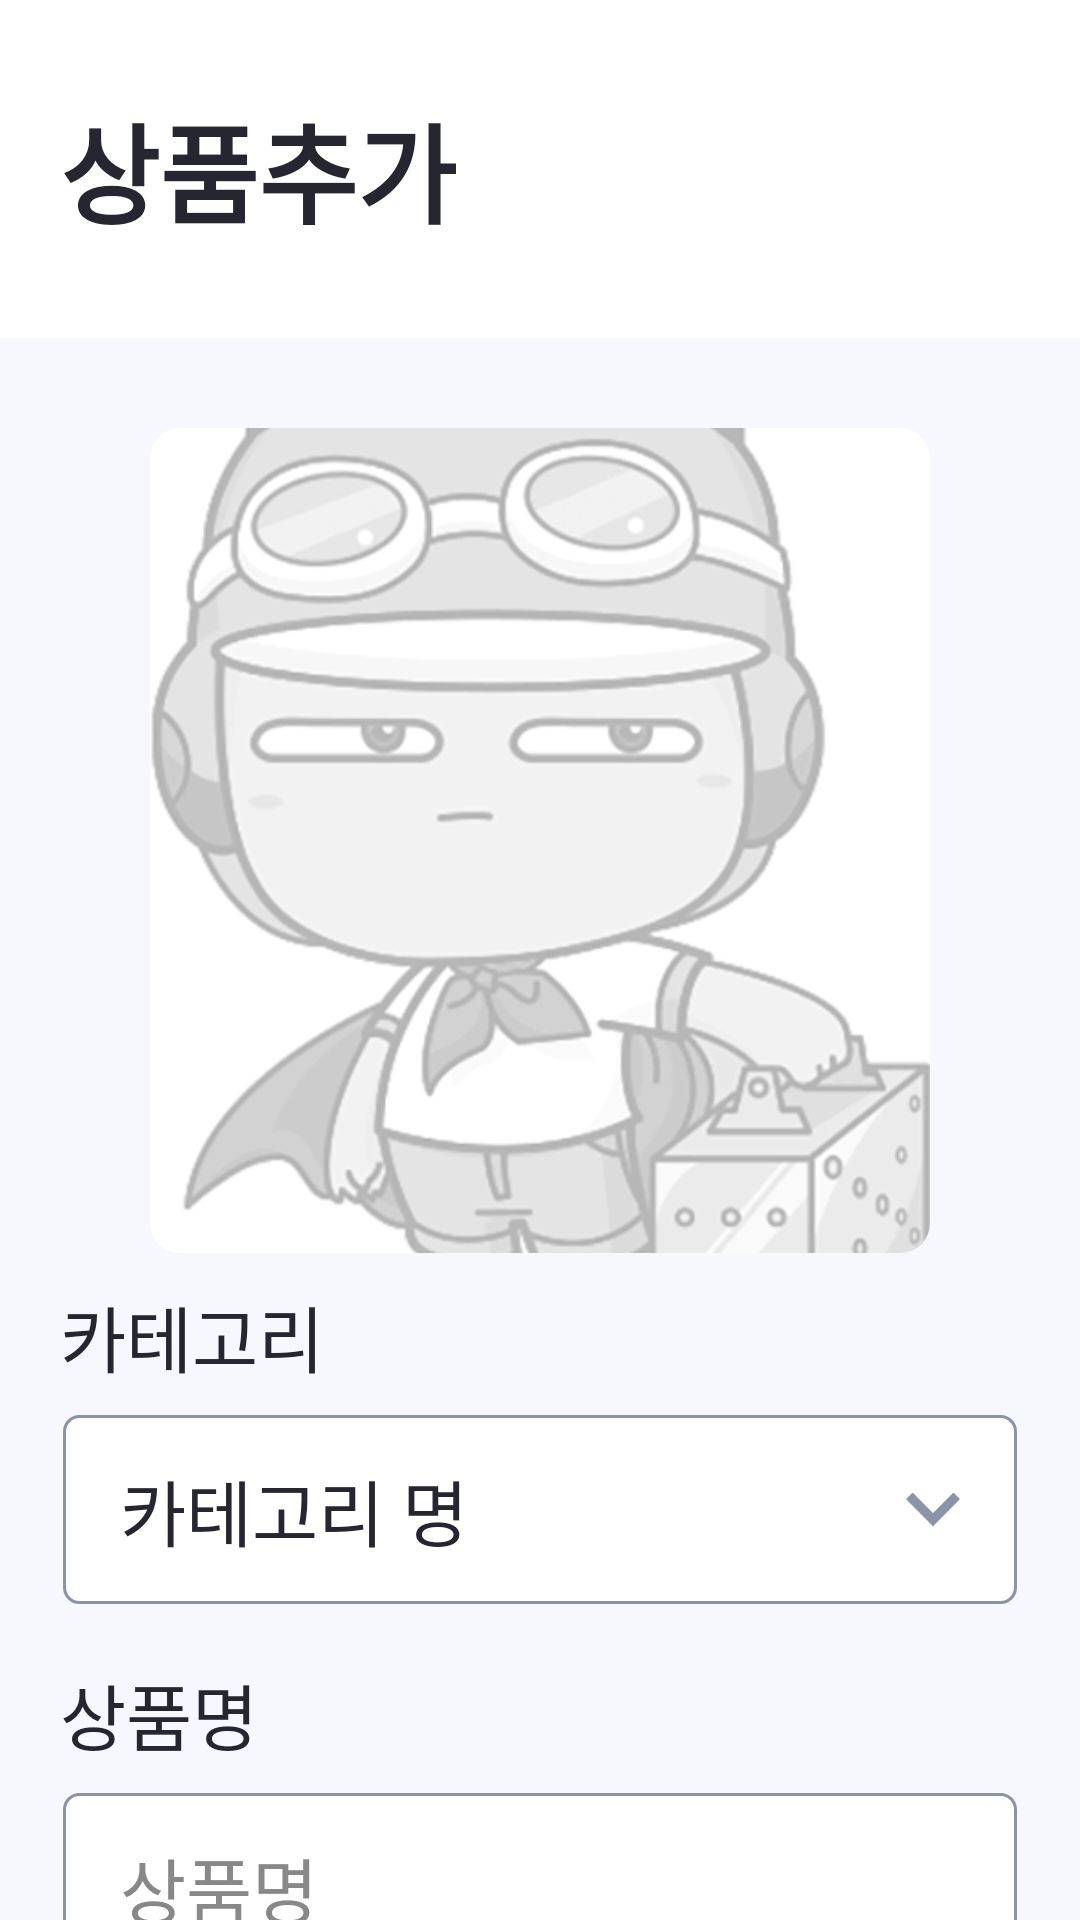

Where icons sit on this 1080px x 1920px app screen, as (x1, y1, x2, y2):
down: (906, 1493, 960, 1527)
